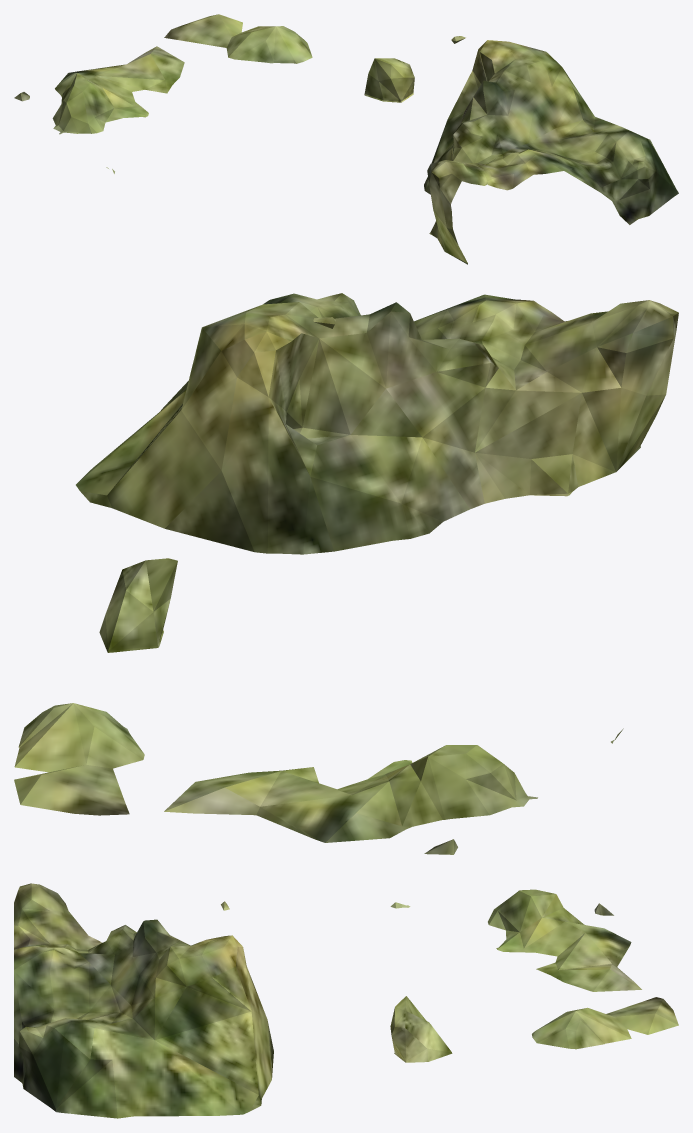
3 views of the same model, one above another, from view 1: azimuth 30°, elevation 25°; view 2: azimuth 150°, elevation 25°; view 3: azimuth 270°, elevation 25° (orthographic). The views are drawn at different scales.
Bounding box in the file's own units: 1.71 × 0.5192 × 2.27.
1 material, 1 textured.
